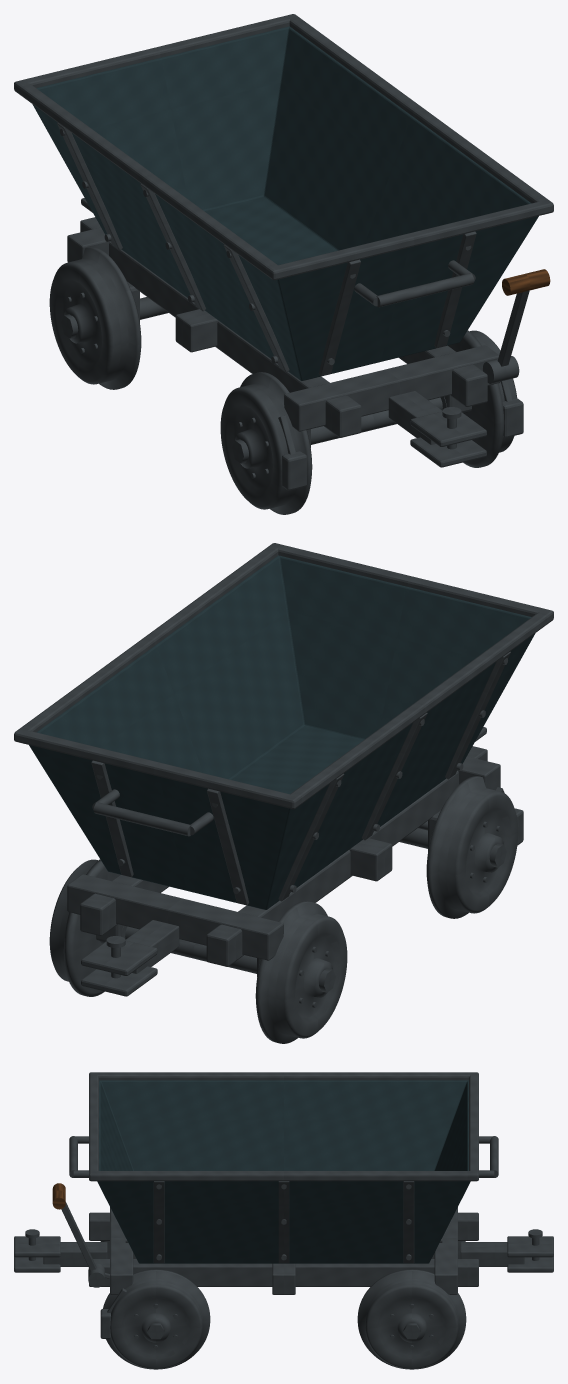
Rendered from Minecart.fbx.
3 views of the same model, one above another, from view 1: azimuth 30°, elevation 25°; view 2: azimuth 150°, elevation 25°; view 3: azimuth 270°, elevation 25° (orthographic). The views are drawn at different scales.
Parts seen in each view (by area): view 1: Minecart_Body, Minecart_Underframe, Wheel_RL, Wheel_FL, Coupler_Front, Wheel_FR, Brake_Linkage, Brake_Lever; view 2: Minecart_Body, Minecart_Underframe, Wheel_FL, Wheel_RL, Coupler_Rear, Wheel_RR; view 3: Minecart_Body, Minecart_Underframe, Wheel_RR, Wheel_FR, Coupler_Rear, Coupler_Front, Brake_Lever, Brake_Linkage.
Part boxes in pixels (left/top/right/bottom): Minecart_Body: left=14, top=14, right=553, bottom=380; Minecart_Underframe: left=67, top=217, right=500, bottom=459; Wheel_RL: left=49, top=247, right=141, bottom=389; Wheel_FL: left=220, top=372, right=312, bottom=514; Coupler_Front: left=388, top=391, right=486, bottom=467; Wheel_FR: left=448, top=330, right=517, bottom=467; Brake_Linkage: left=278, top=356, right=523, bottom=490; Brake_Lever: left=497, top=269, right=550, bottom=366; Minecart_Body: left=14, top=543, right=553, bottom=909; Minecart_Underframe: left=67, top=746, right=500, bottom=988; Wheel_FL: left=426, top=776, right=518, bottom=918; Wheel_RL: left=255, top=901, right=347, bottom=1043; Coupler_Rear: left=81, top=920, right=179, bottom=996; Wheel_RR: left=49, top=859, right=119, bottom=996; Minecart_Body: left=69, top=1072, right=498, bottom=1263; Minecart_Underframe: left=89, top=1207, right=478, bottom=1294; Wheel_RR: left=357, top=1269, right=466, bottom=1369; Wheel_FR: left=103, top=1269, right=210, bottom=1369; Coupler_Rear: left=460, top=1229, right=553, bottom=1272; Coupler_Front: left=14, top=1229, right=107, bottom=1272; Brake_Lever: left=52, top=1183, right=96, bottom=1271; Brake_Linkage: left=88, top=1241, right=126, bottom=1338.
Bounding box in the file's own units: 78 × 74.4 × 173.
4 materials, 4 textured.
